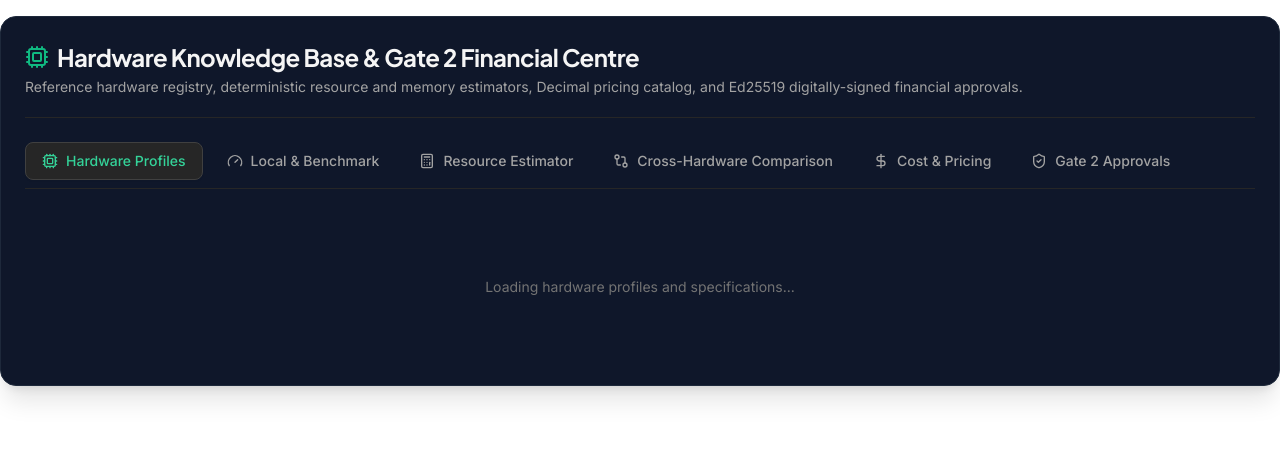
Test case: Hardware & Gate 2 Centre Frontend Page › switches to Gate 2 Approvals tab and displays financial approval requests
Click the button "Gate 2 Approvals" at coordinates (1101, 161), box top-left (1015, 142), bottom-right (1186, 180)
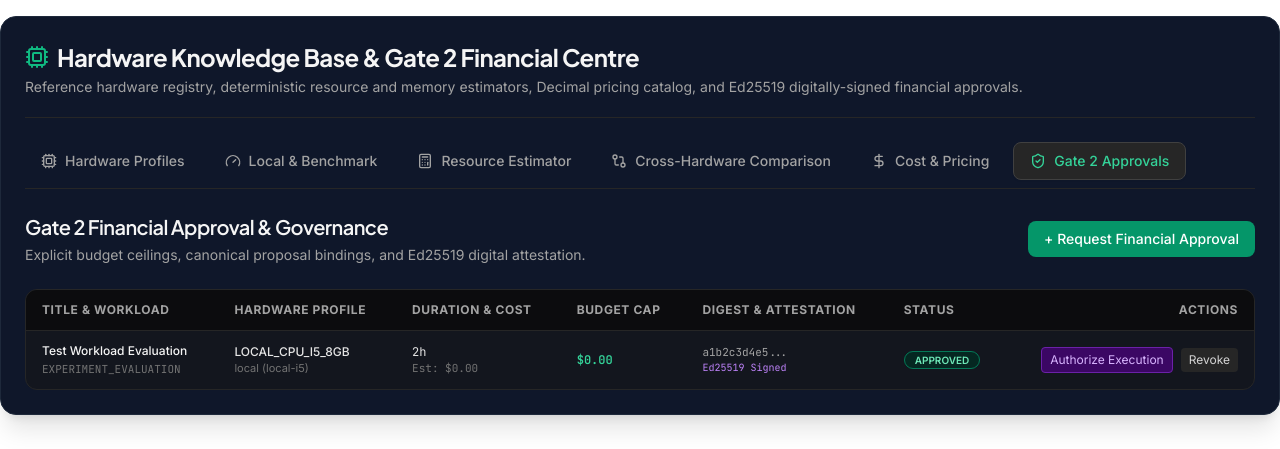
Check: the heading "Gate 2 Financial Approval & Governance" is shown, box top-left (25, 214), bottom-right (388, 239)
Check: the text "Test Workload Evaluation" is shown, box top-left (42, 343), bottom-right (202, 359)
Check: the text "APPROVED" is shown, box top-left (904, 351), bottom-right (980, 369)
